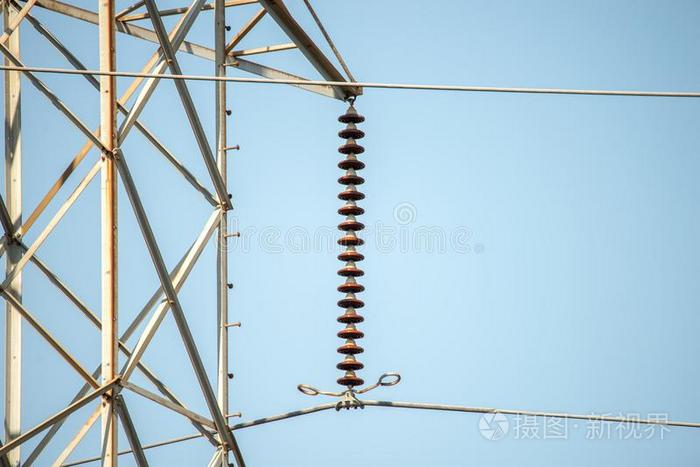insulator: (334, 111, 367, 389)
